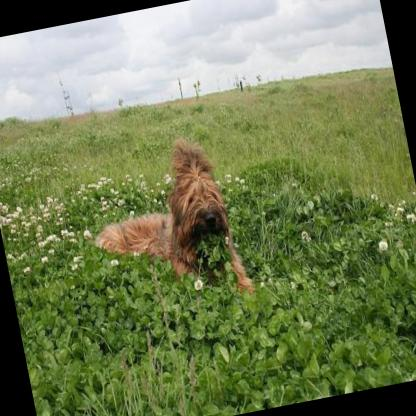briard: (76, 128, 258, 320)
